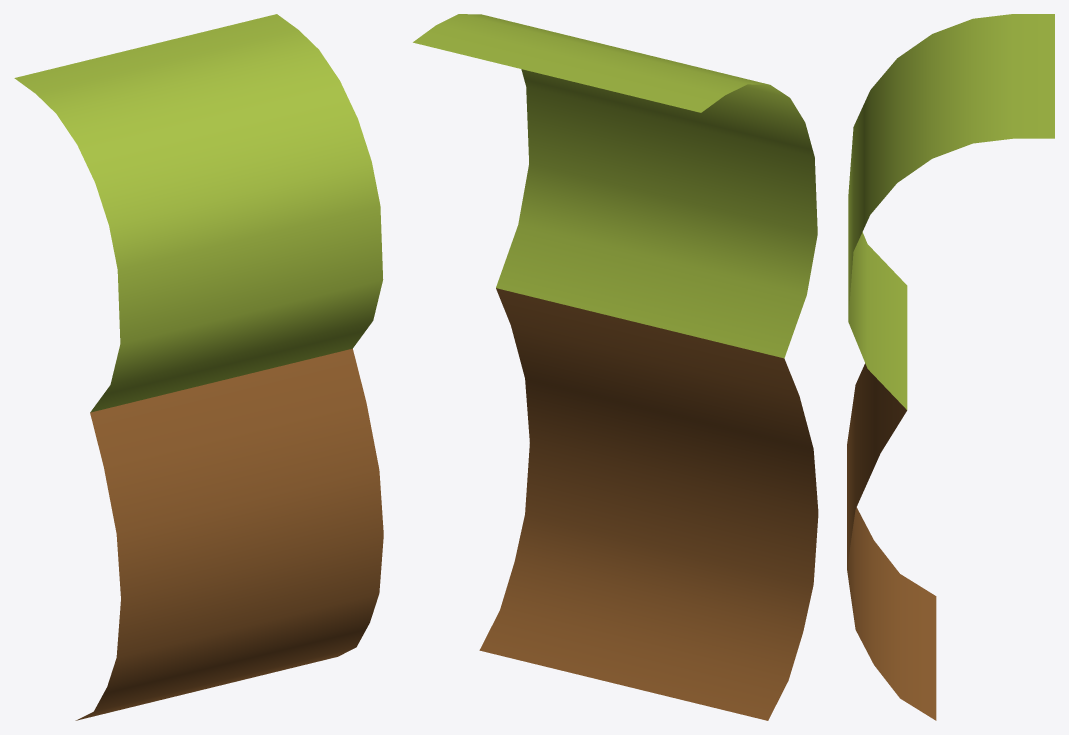
File: Borda3.fbx
The picture shows the model from 3 angles, left to right: view 1: azimuth 30°, elevation 25°; view 2: azimuth 150°, elevation 25°; view 3: azimuth 270°, elevation 25°; orthographic projection. The views are drawn at different scales.
Visible parts, largest first — view 1: Borda3; view 2: Borda3; view 3: Borda3.
Part boxes in pixels (x1,y1,x2,y2): Borda3: [14, 14, 383, 720]; Borda3: [413, 14, 818, 720]; Borda3: [847, 14, 1054, 720].
Bounding box in the file's own units: 100 × 218 × 70.43.
